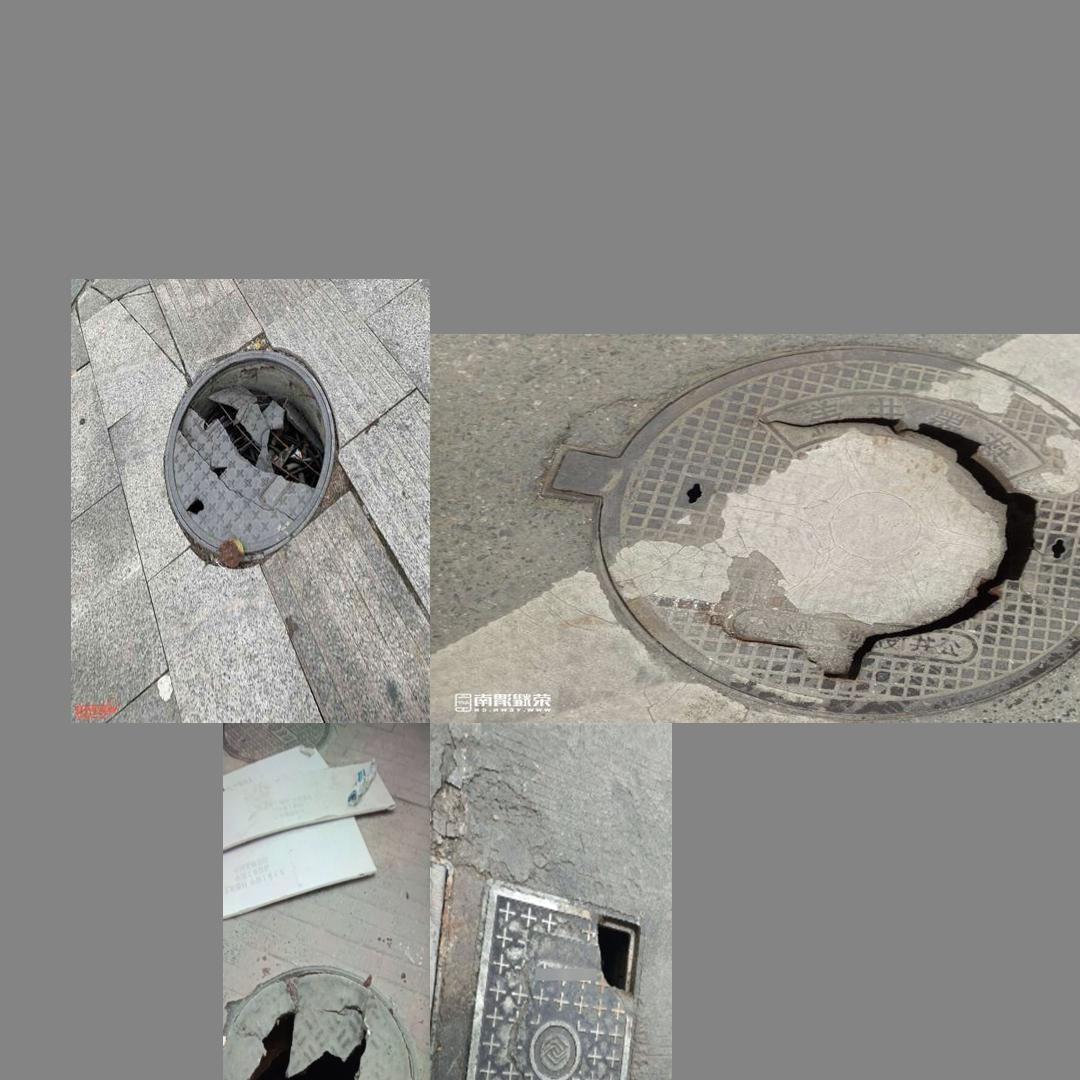broke: (583, 340, 1080, 719), (156, 342, 340, 572), (450, 878, 645, 1080), (223, 965, 418, 1080)
